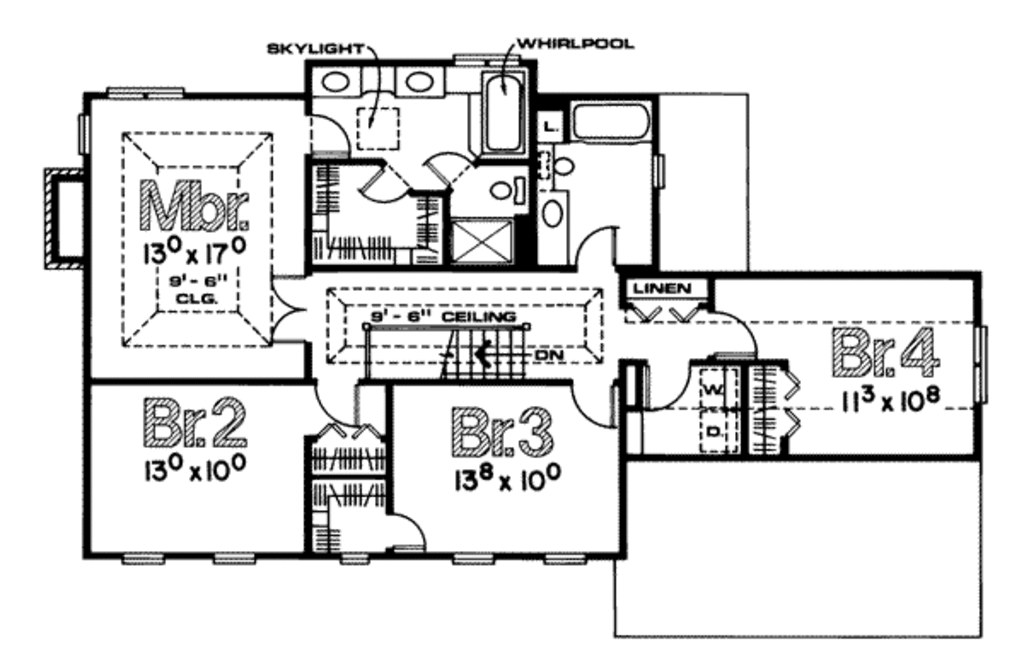door: (269, 272, 312, 348), (303, 108, 356, 162), (568, 222, 620, 277), (639, 362, 691, 413), (701, 308, 757, 355), (310, 380, 365, 427), (573, 377, 619, 432), (356, 164, 414, 207), (422, 145, 471, 194), (381, 508, 430, 549)
large_sink: (531, 144, 575, 189), (485, 171, 530, 214)
small_sink: (309, 62, 448, 107), (535, 188, 577, 266)
stairs: (359, 319, 537, 382)
tub: (479, 67, 528, 160), (571, 97, 652, 151)
window: (968, 319, 992, 406), (102, 86, 189, 109), (449, 47, 523, 66), (119, 547, 170, 572), (451, 547, 500, 571), (212, 549, 259, 572), (542, 551, 593, 570), (329, 546, 374, 566), (75, 110, 92, 159), (651, 151, 670, 191)
